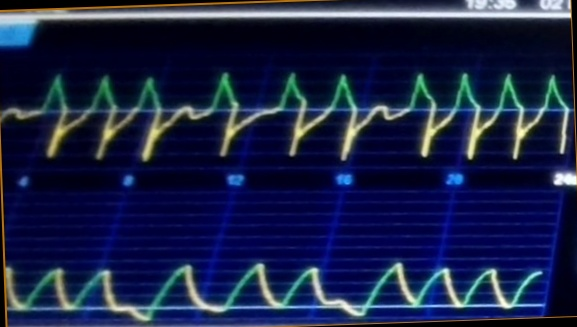Ineffective_effort Flow: (3, 69, 569, 161)
Ineffective_effort Volume: (7, 241, 542, 320)
